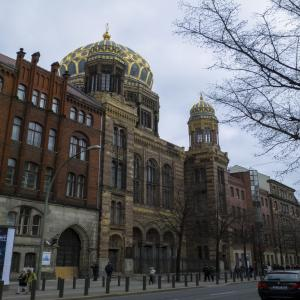Vehicle-registration-plate: (273, 287, 288, 290)
